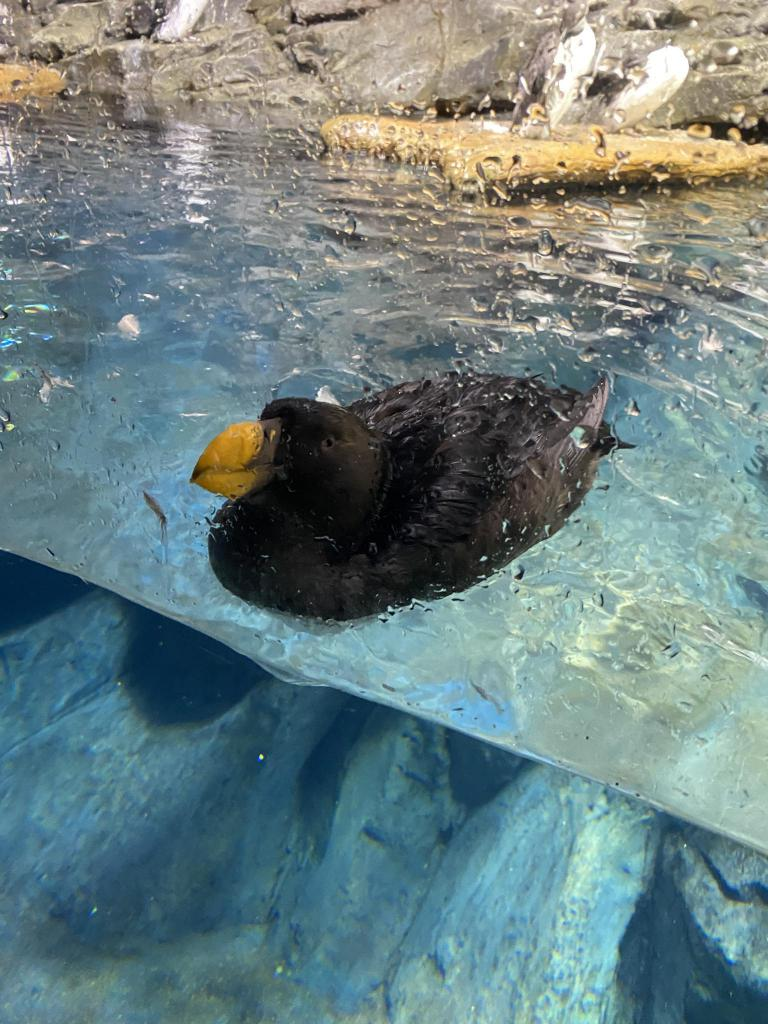puffin: (192, 374, 614, 630), (509, 0, 593, 137), (600, 46, 686, 134)
